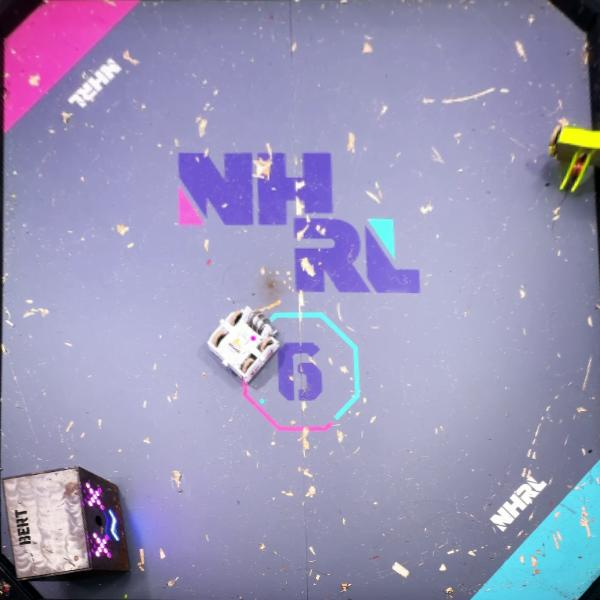housebot: (2, 468, 129, 580)
robot: (207, 305, 280, 383), (549, 125, 600, 194)
